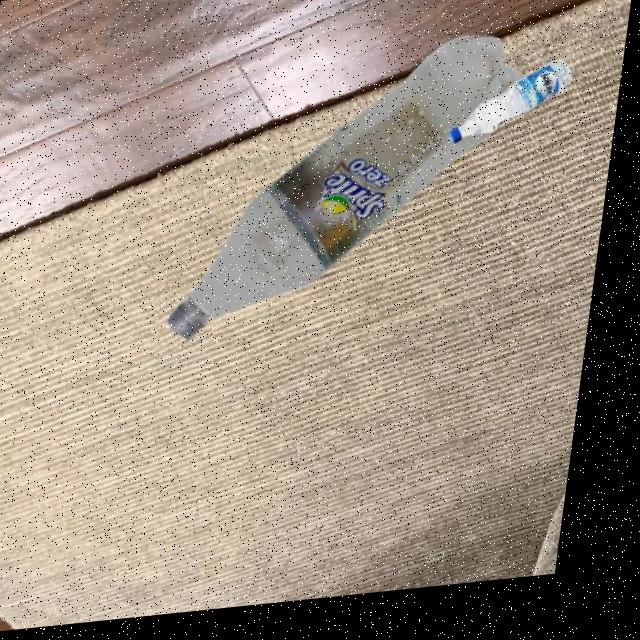litter: (158, 292, 226, 360)
